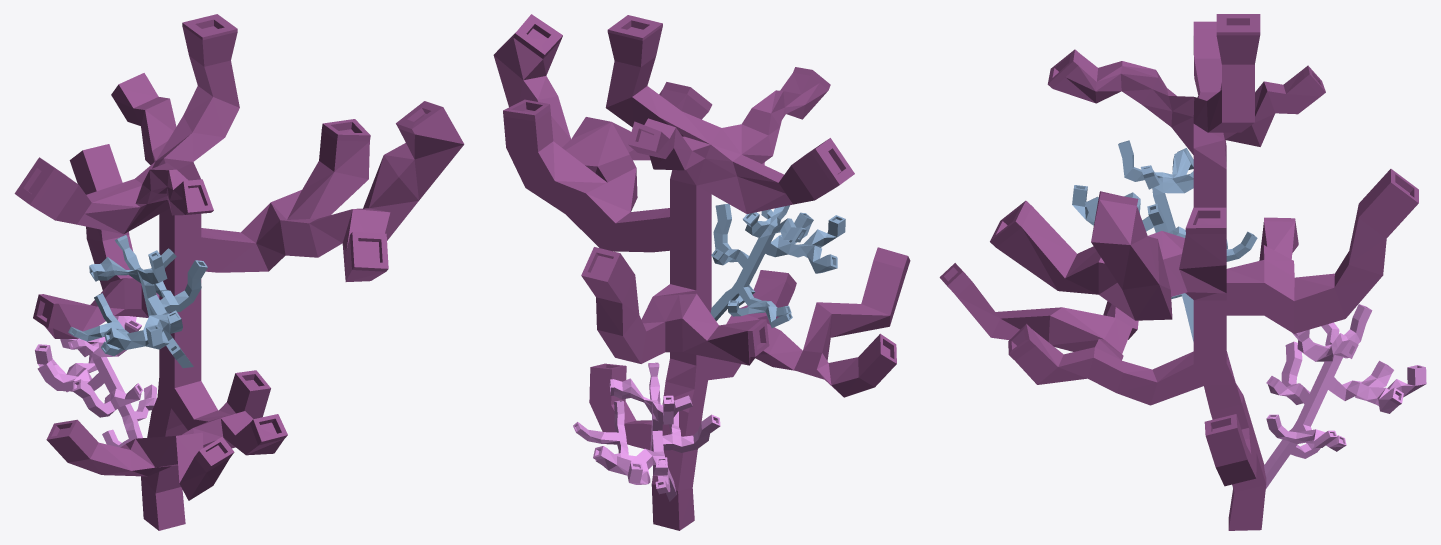
Rendered from Terumbu Karang 3.dae.
3 renders of one model, left to right at view 1: azimuth 30°, elevation 25°; view 2: azimuth 150°, elevation 25°; view 3: azimuth 270°, elevation 25°, orthographic. The views are drawn at different scales.
Parts seen in each view (by area): view 1: Cube, Cube.003, Cube.001; view 2: Cube, Cube.003, Cube.001; view 3: Cube, Cube.001, Cube.003.
Boxes of the visible parts, left/top/right/bottom form: Cube: left=14, top=14, right=464, bottom=530; Cube.003: left=68, top=235, right=207, bottom=368; Cube.001: left=35, top=316, right=156, bottom=447; Cube: left=493, top=14, right=910, bottom=530; Cube.003: left=710, top=203, right=845, bottom=327; Cube.001: left=573, top=362, right=720, bottom=501; Cube: left=939, top=14, right=1418, bottom=530; Cube.001: left=1264, top=304, right=1426, bottom=489; Cube.003: left=1072, top=140, right=1257, bottom=341.
Size of the model in its own units: 2.81 by 2.72 by 3.23.
